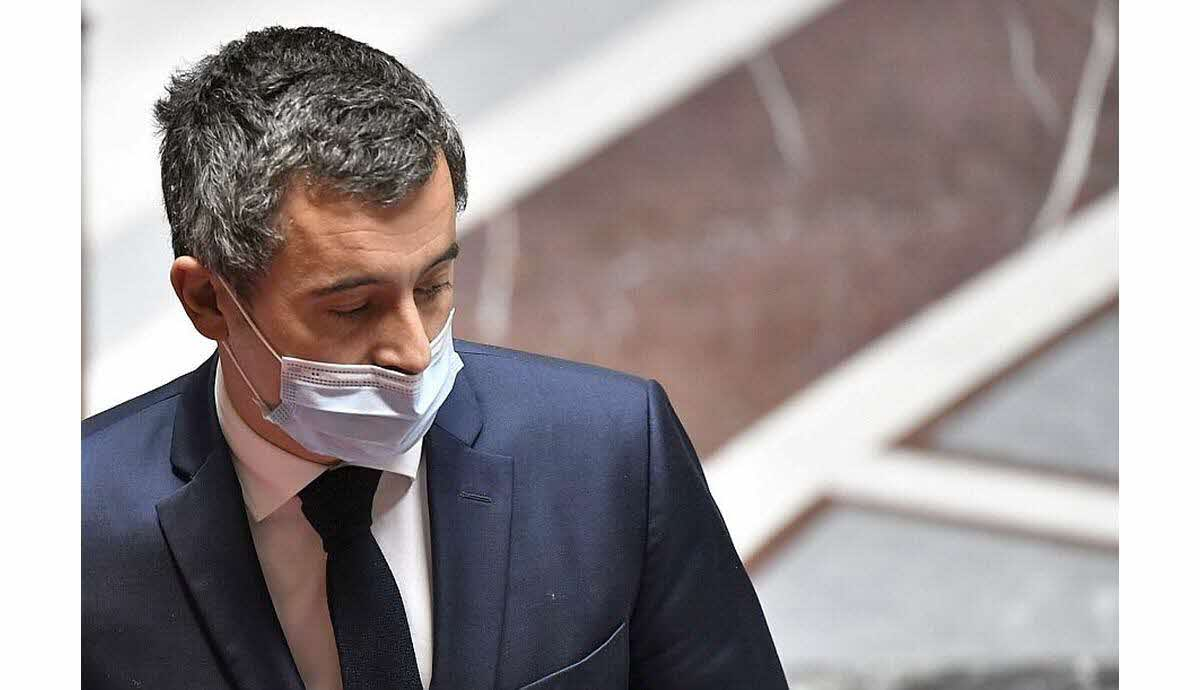with_incorrect_mask: (249, 156, 465, 453)
